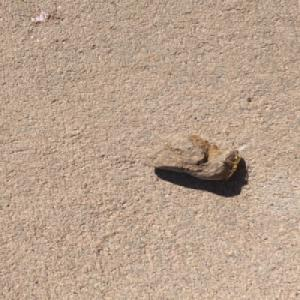Rock: (139, 132, 242, 181)
